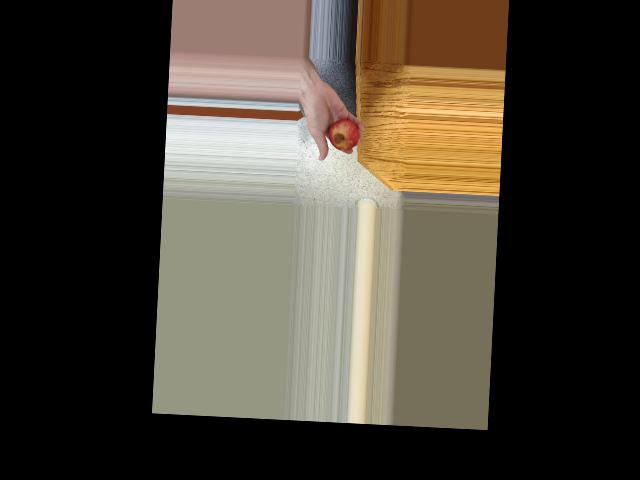apple: (323, 113, 361, 156)
